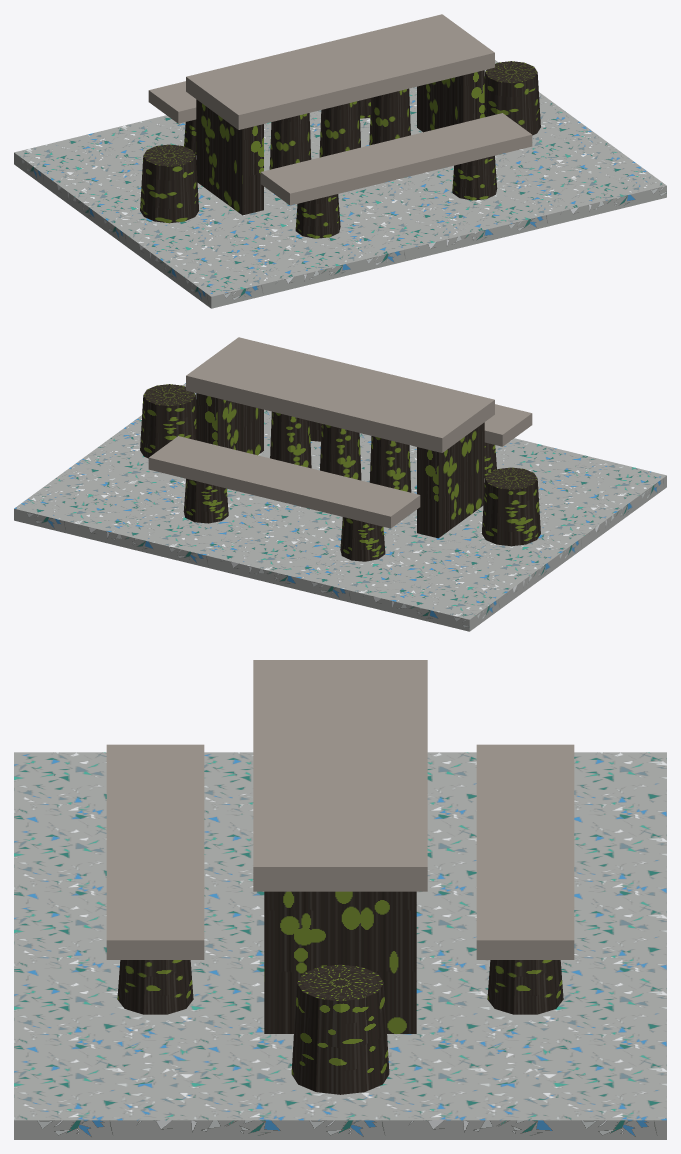
File: tempat_duduk_corak_kayu.glb
3 views of the same model, one above another, from view 1: azimuth 30°, elevation 25°; view 2: azimuth 150°, elevation 25°; view 3: azimuth 270°, elevation 25° (orthographic). The views are drawn at different scales.
Visible parts, largest first — view 1: Lantai_Mozaik_Pecahan_Keramik, Papan_Semen_Meja_Bangku, Batang_Kayu_Penopang; view 2: Lantai_Mozaik_Pecahan_Keramik, Papan_Semen_Meja_Bangku, Batang_Kayu_Penopang; view 3: Lantai_Mozaik_Pecahan_Keramik, Papan_Semen_Meja_Bangku, Batang_Kayu_Penopang.
Boxes of the visible parts, x1=… form: Lantai_Mozaik_Pecahan_Keramik: x1=14, y1=60, x2=666, y2=308; Papan_Semen_Meja_Bangku: x1=148, y1=14, x2=532, y2=205; Batang_Kayu_Penopang: x1=140, y1=61, x2=540, y2=238; Lantai_Mozaik_Pecahan_Keramik: x1=14, y1=383, x2=666, y2=631; Papan_Semen_Meja_Bangku: x1=148, y1=337, x2=532, y2=528; Batang_Kayu_Penopang: x1=140, y1=384, x2=540, y2=561; Lantai_Mozaik_Pecahan_Keramik: x1=14, y1=752, x2=666, y2=1139; Papan_Semen_Meja_Bangku: x1=106, y1=660, x2=574, y2=959; Batang_Kayu_Penopang: x1=117, y1=891, x2=563, y2=1094.
Size of the model in its own units: 3.2 by 0.78 by 2.4.
3 materials, 2 textured.
